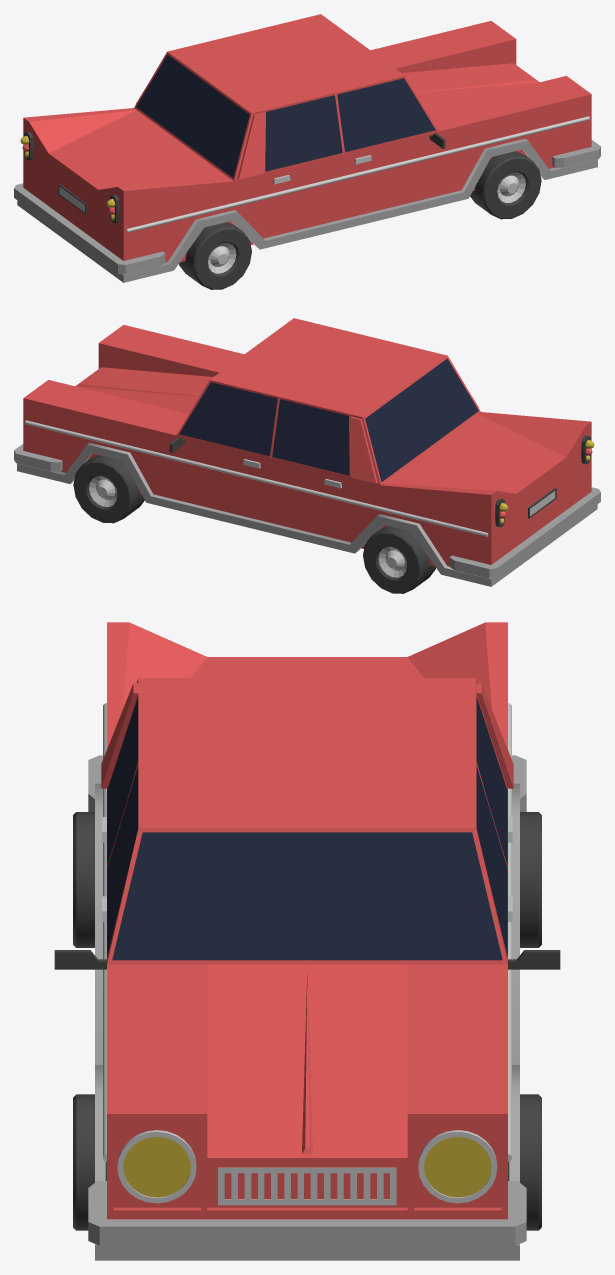
File: StylizedCar.fbx
The picture shows the model from 3 angles, top to bottom: view 1: azimuth 30°, elevation 25°; view 2: azimuth 150°, elevation 25°; view 3: azimuth 270°, elevation 25°; orthographic projection. The views are drawn at different scales.
Parts seen in each view (by area): view 1: CarBody, Bumper_under, Tire_FR, Tire_BR, Bumper_rear, CharacterLine_R, Bumper_front, Barrel_FR, Barrel_BR; view 2: CarBody, Bumper_under, Tire_FL, Tire_BL, Bumper_rear, CharacterLine_L, Bumper_front, Barrel_FL, Barrel_BL; view 3: CarBody, Bumper_front, Bumper_under, Grille, Headlight_L_Light, Headlight_R_Light, Tire_BL, Tire_BR, Tire_FL, Tire_FR, Headlight_R_LightRing, Headlight_L_LightRing (+5 smaller).
Part boxes in pixels (x1=…): CarBody: x1=23, y1=14, x2=591, y2=262; Bumper_under: x1=17, y1=138, x2=597, y2=282; Tire_FR: x1=470, y1=151, x2=541, y2=219; Tire_BR: x1=179, y1=222, x2=251, y2=289; Bumper_rear: x1=14, y1=183, x2=165, y2=274; CharacterLine_R: x1=126, y1=116, x2=589, y2=232; Bumper_front: x1=552, y1=140, x2=600, y2=167; Barrel_FR: x1=497, y1=172, x2=525, y2=202; Barrel_BR: x1=208, y1=243, x2=236, y2=273; CarBody: x1=23, y1=318, x2=591, y2=566; Bumper_under: x1=17, y1=442, x2=597, y2=586; Tire_FL: x1=73, y1=455, x2=144, y2=523; Tire_BL: x1=363, y1=526, x2=435, y2=593; Bumper_rear: x1=449, y1=487, x2=600, y2=578; CharacterLine_L: x1=25, y1=420, x2=488, y2=536; Bumper_front: x1=14, y1=444, x2=62, y2=471; Barrel_FL: x1=89, y1=476, x2=117, y2=506; Barrel_BL: x1=378, y1=547, x2=406, y2=577; CarBody: x1=101, y1=622, x2=513, y2=1219; Bumper_front: x1=88, y1=1181, x2=526, y2=1245; Bumper_under: x1=95, y1=783, x2=519, y2=1260; Grille: x1=218, y1=1167, x2=396, y2=1205; Headlight_L_Light: x1=424, y1=1137, x2=491, y2=1197; Headlight_R_Light: x1=123, y1=1137, x2=190, y2=1197; Tire_BL: x1=520, y1=812, x2=541, y2=947; Tire_BR: x1=73, y1=812, x2=94, y2=947; Tire_FL: x1=508, y1=1094, x2=541, y2=1230; Tire_FR: x1=73, y1=1094, x2=106, y2=1230; Headlight_R_LightRing: x1=117, y1=1130, x2=196, y2=1203; Headlight_L_LightRing: x1=418, y1=1130, x2=497, y2=1203.
Bounding box in the file's own units: 19.81 × 6 × 8.94.
